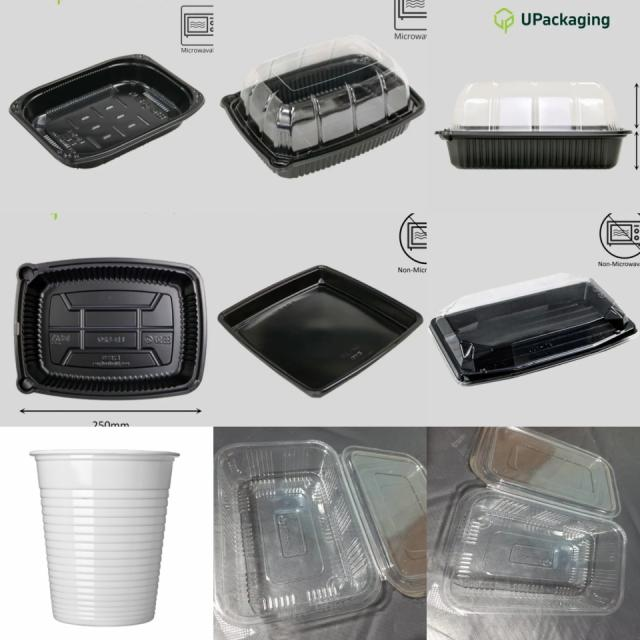Single-Use-Plastic: (215, 440, 426, 625), (440, 429, 626, 614), (221, 35, 425, 178), (15, 258, 206, 399), (219, 266, 422, 396), (30, 450, 179, 625), (430, 274, 638, 385), (10, 55, 204, 168), (438, 82, 630, 169)
